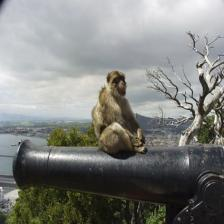monkey: (89, 63, 145, 161)
